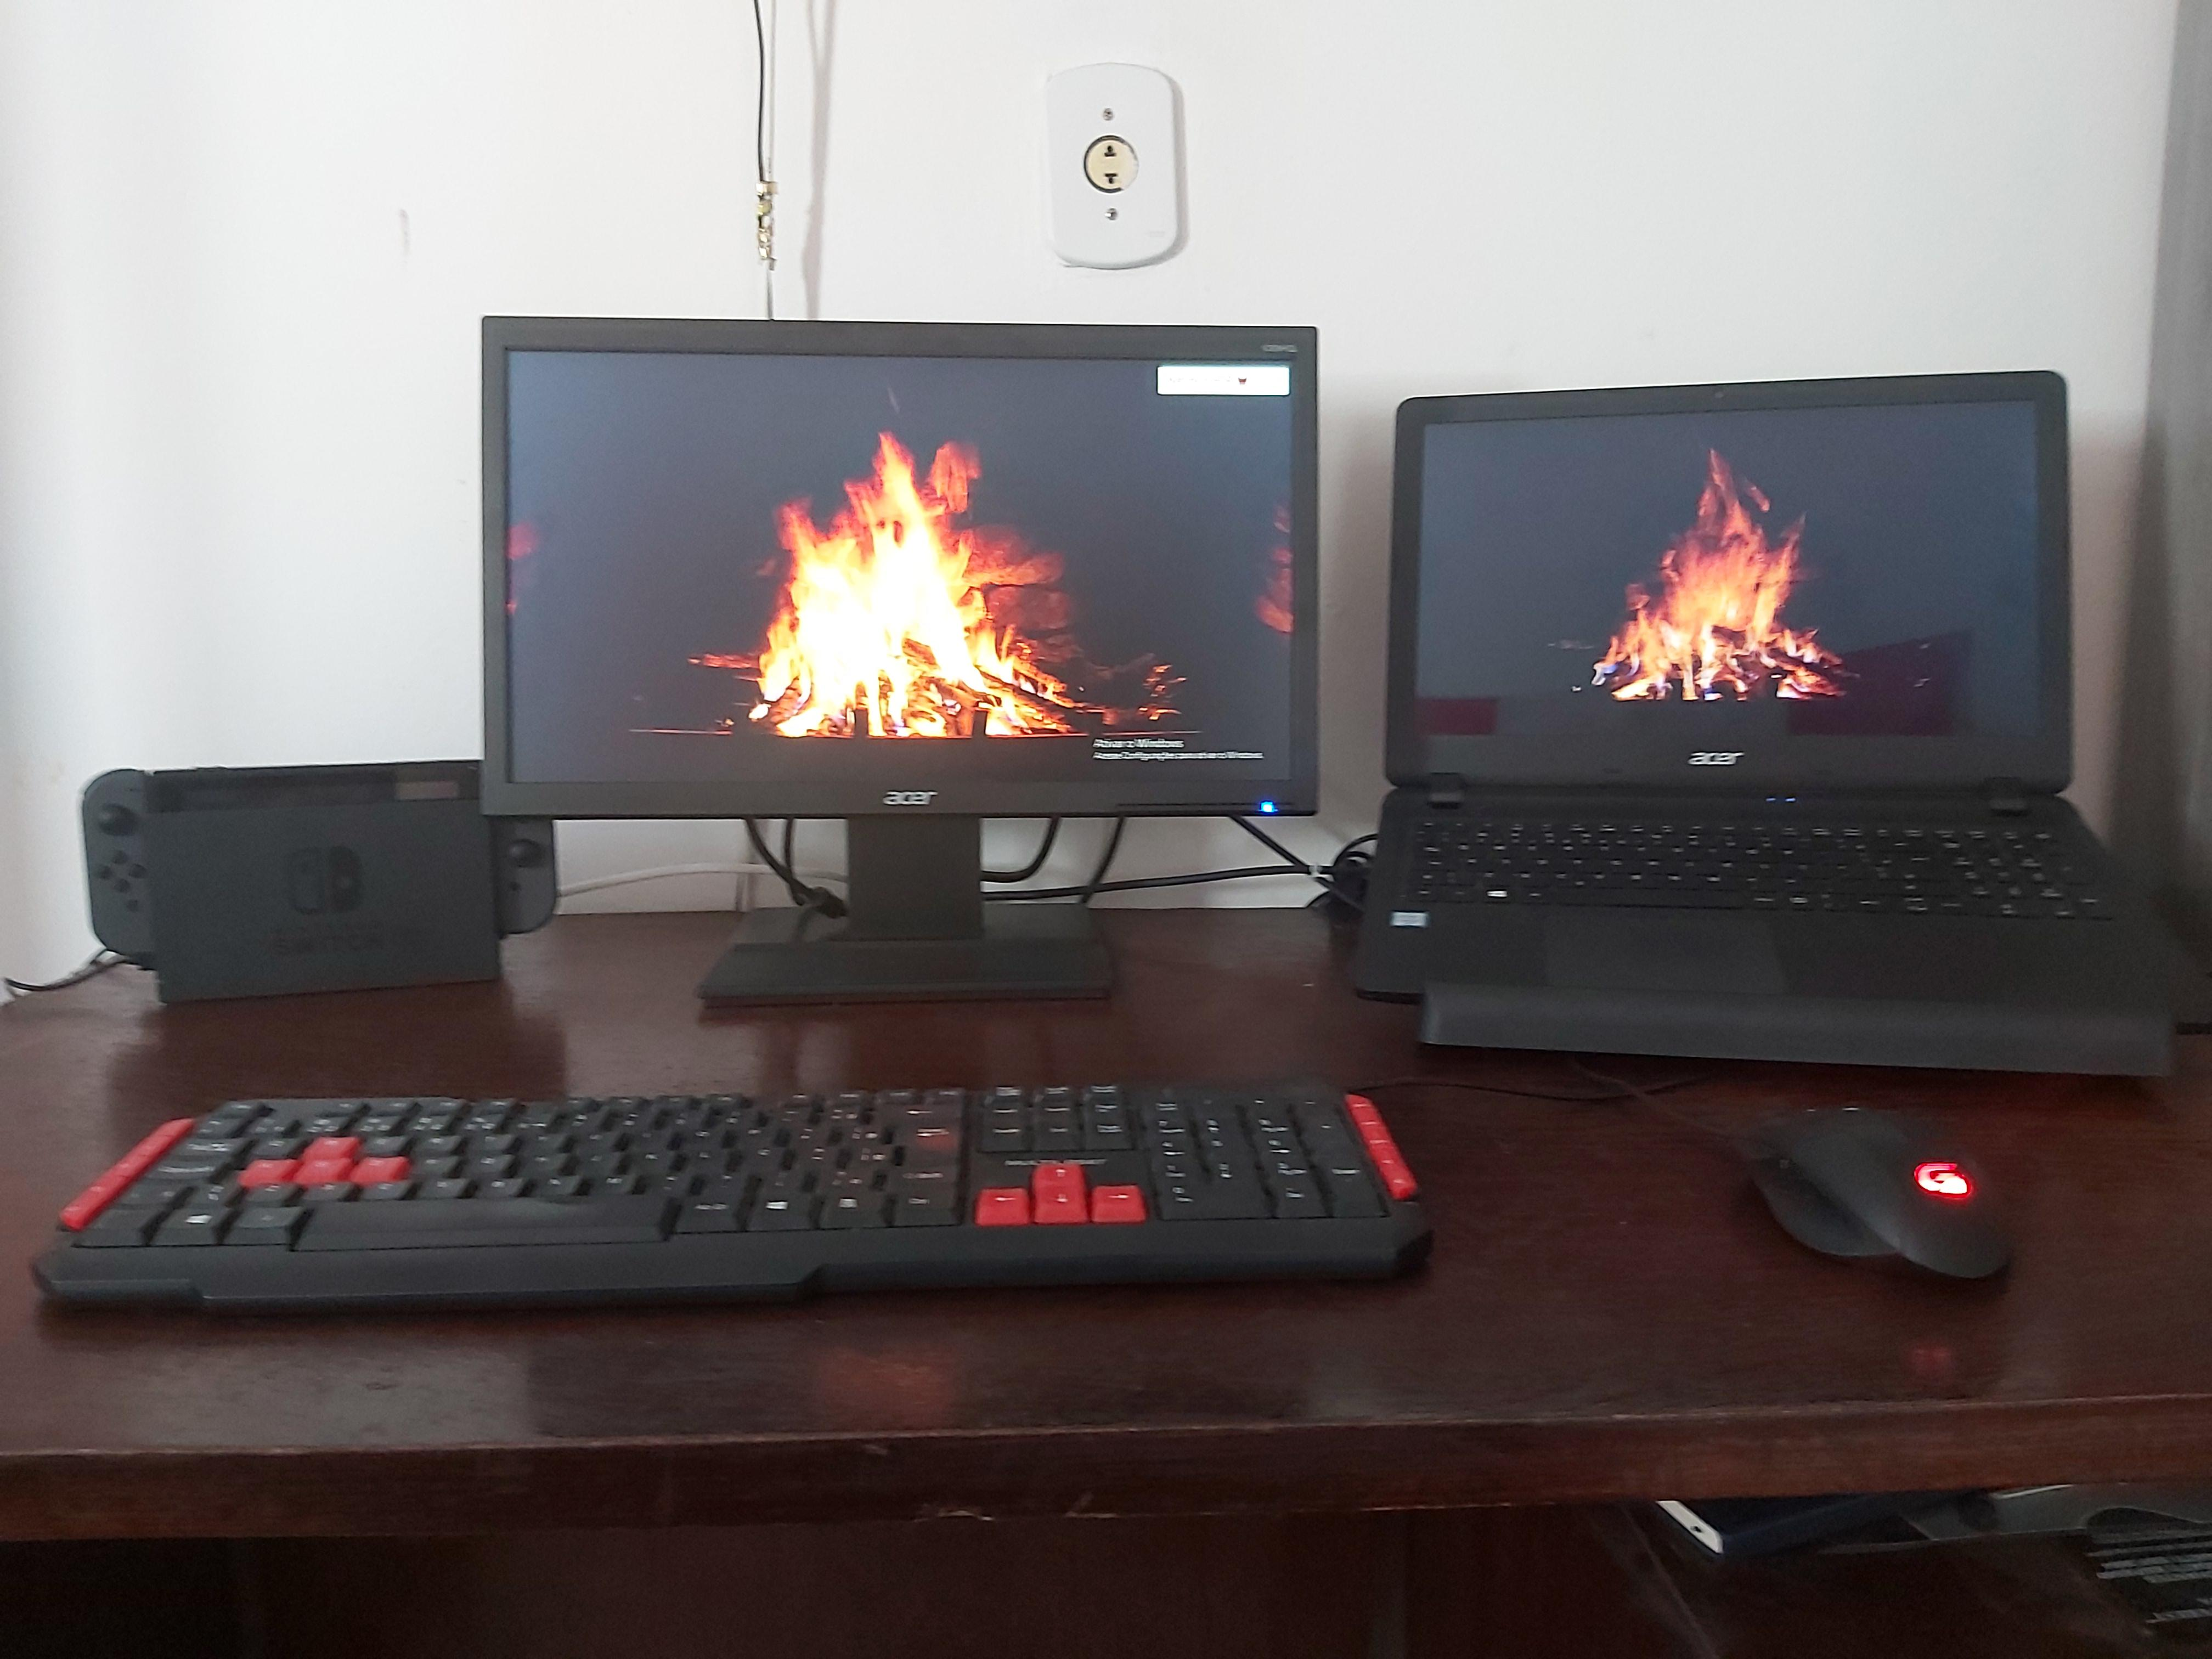Desk (Generic): (10, 906, 2205, 1650)
Gaming Console: (78, 756, 559, 1000)
Keyboard (Gaming): (31, 1086, 1440, 1319)
Laptop (Windows): (1352, 368, 2212, 1028)
Monitor (Landscape): (482, 315, 1320, 819)
Mouse (Gaming): (1717, 1108, 2020, 1283)
Scientific Calculator: (1639, 1488, 1986, 1558)
